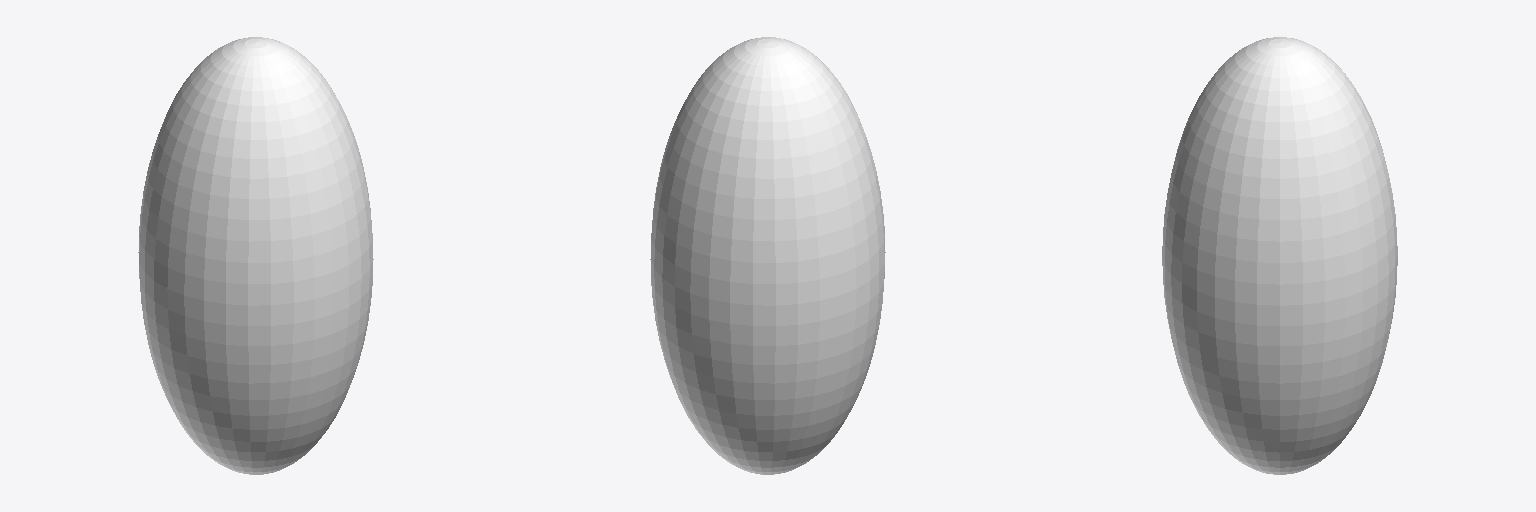
File: WirtanenEllipse.obj
3 views of the same model, side by side, from view 1: azimuth 30°, elevation 25°; view 2: azimuth 150°, elevation 25°; view 3: azimuth 270°, elevation 25° (orthographic).
Size of the model in its own units: 920 by 1840 by 920.